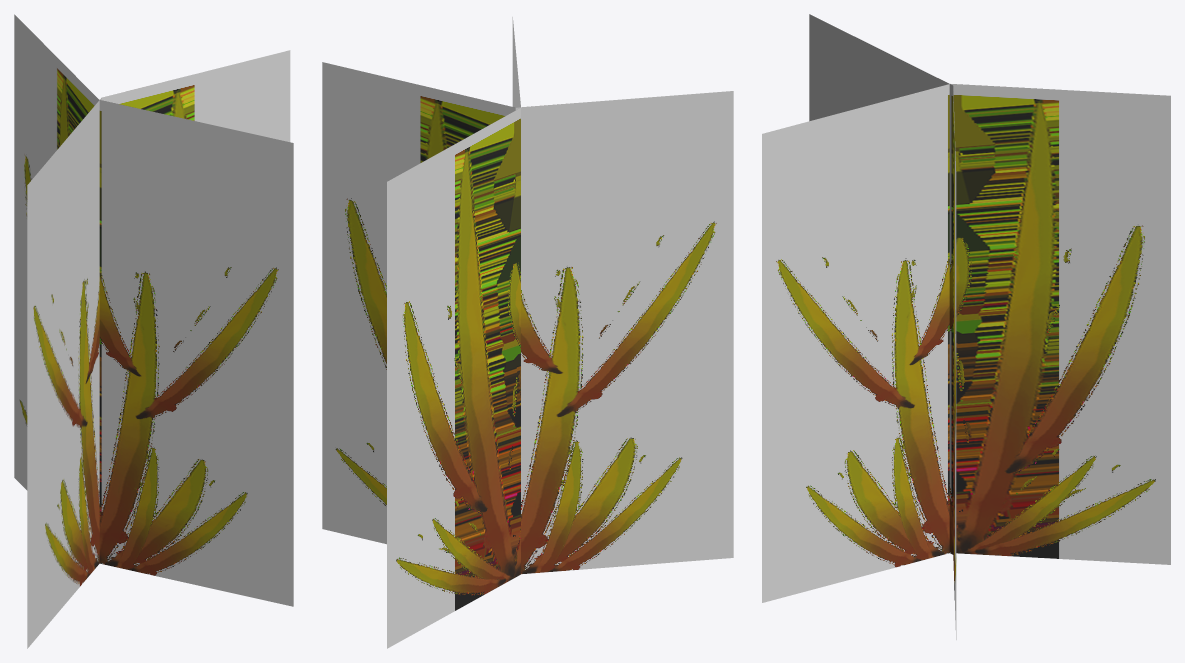
File: TallGrass.fbx
The picture shows the model from 3 angles, left to right: view 1: azimuth 30°, elevation 25°; view 2: azimuth 150°, elevation 25°; view 3: azimuth 270°, elevation 25°; orthographic projection.
Visible parts, largest first — view 1: TallGrass_LOD0; view 2: TallGrass_LOD0; view 3: TallGrass_LOD0.
Boxes of the visible parts, x1,y1,x2,y2 form: TallGrass_LOD0: (14,14,293,648); TallGrass_LOD0: (322,17,733,648); TallGrass_LOD0: (762,14,1170,639).
Size of what is drawn, in the model's own units: 1.87 by 2.47 by 1.95.
